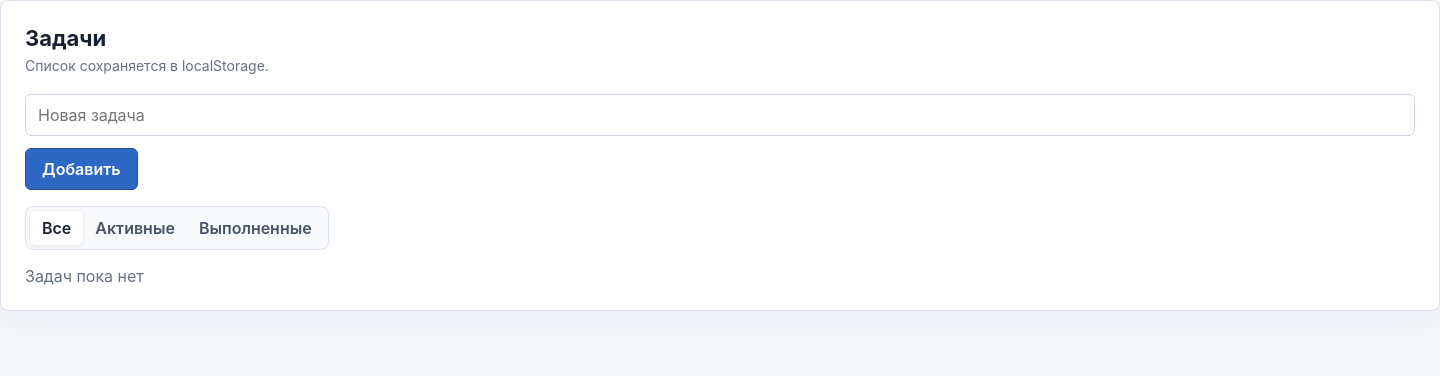
Test case: TodoList › edits a todo
Type "Draft README" into the field with placeholder "Новая задача" at (720, 115), box [25, 94, 1415, 136]
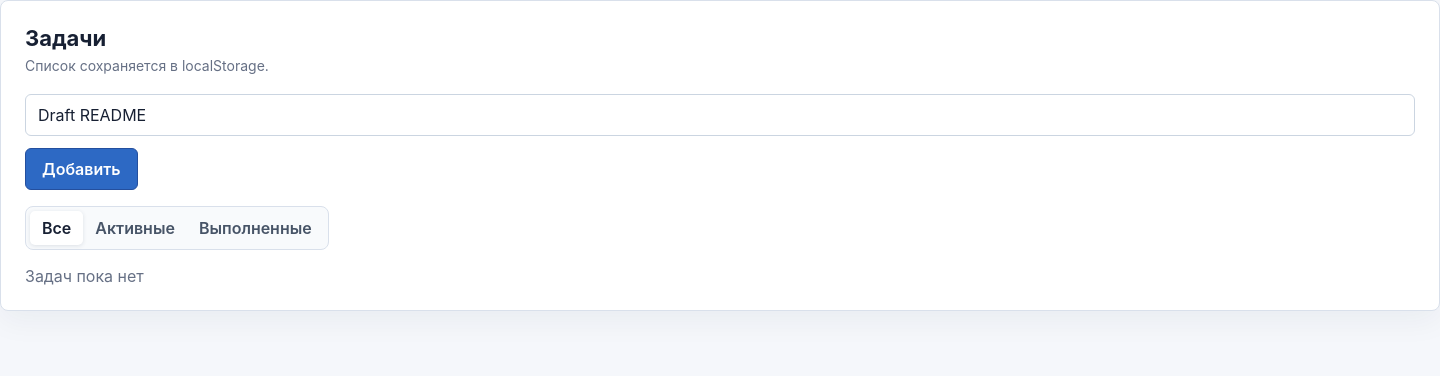
Submit the form, box [25, 94, 1415, 190]
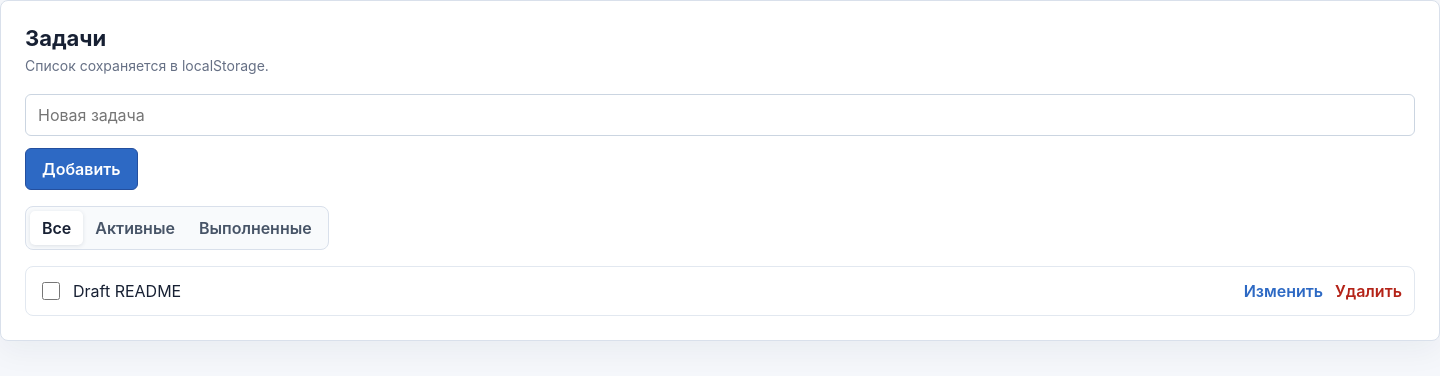
Click the button "Изменить" at (1283, 291), box [1244, 281, 1323, 301]
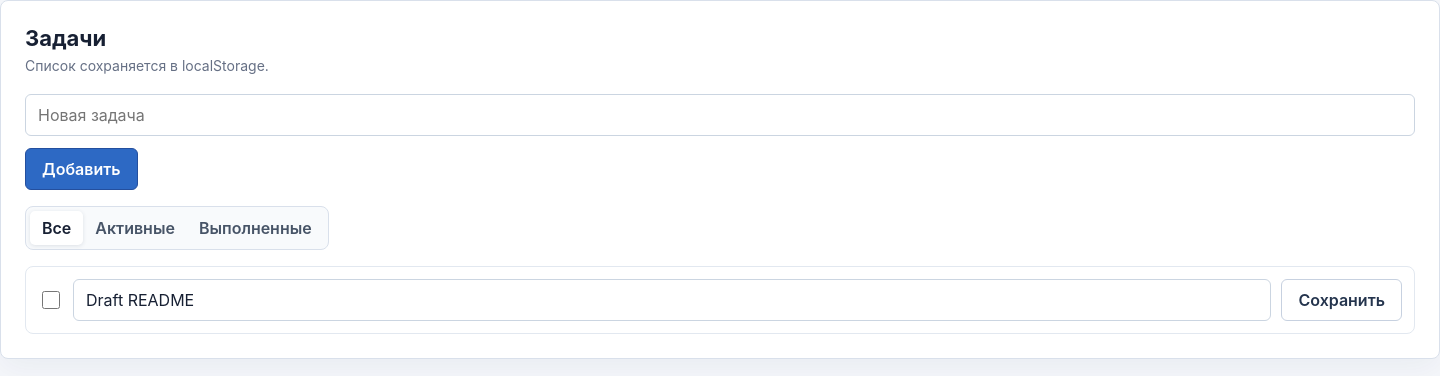
Replace the text in the 2nd field with "Polish README" at (672, 300), box [73, 279, 1272, 321]
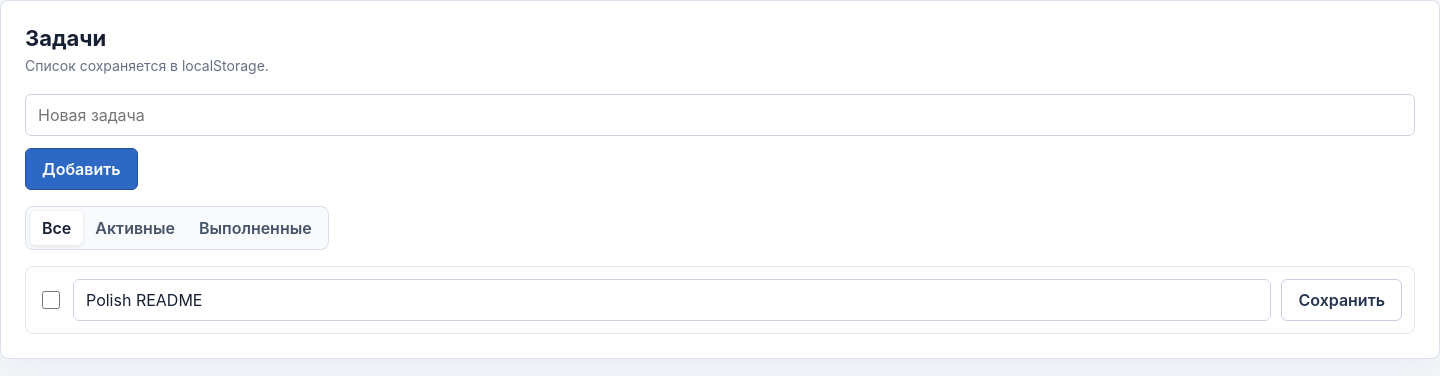
Submit the form with class "todo-edit", box [73, 279, 1402, 321]
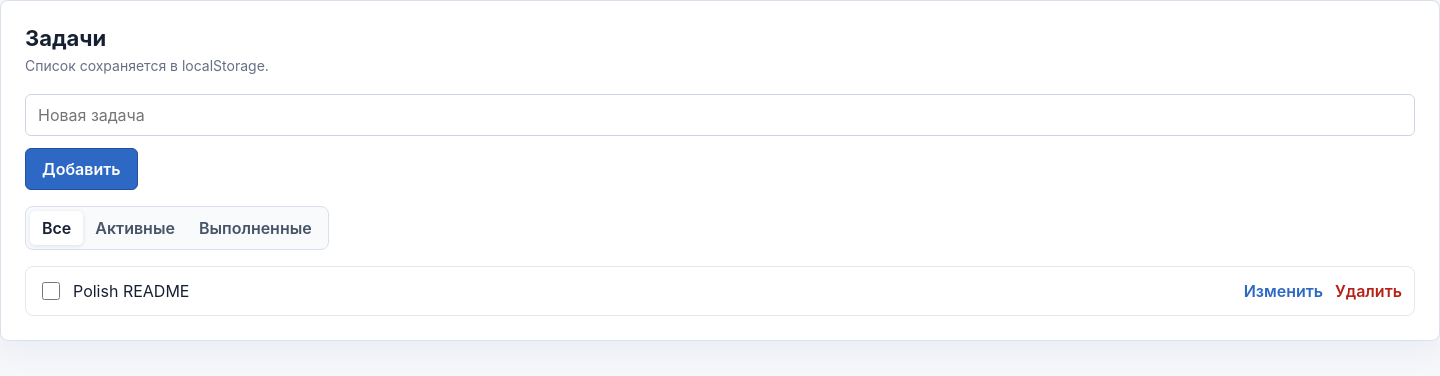
expect the text "Draft README" is not shown: met
expect the text "Polish README" is shown: met, box [73, 281, 190, 301]
